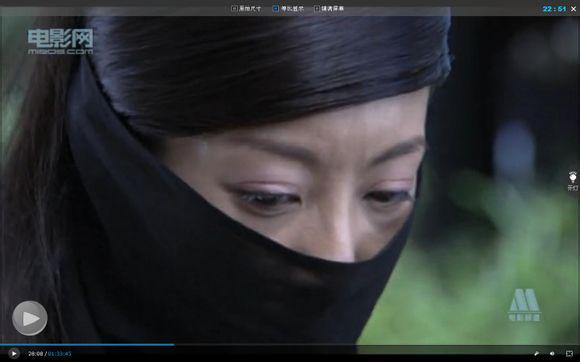WRONG: (199, 112, 418, 331)
